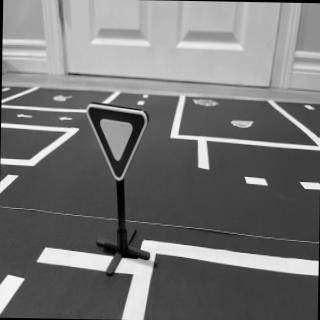road_oneway: (56, 114, 77, 124), (15, 112, 35, 121)
sign_yield: (86, 104, 149, 180)
